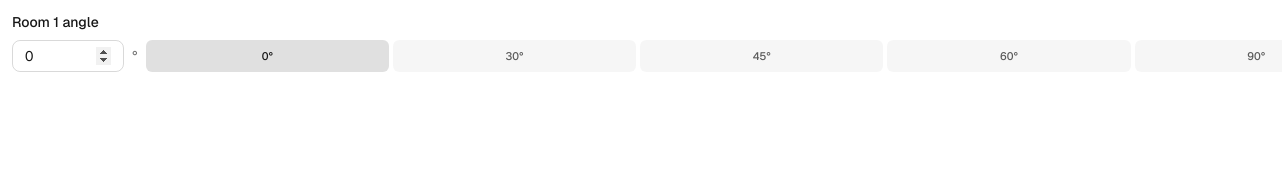
Test: AngleField presets › turns a section to a named angle in one press
Click the button named "Room 1 angle 45 degrees".
click(762, 56)  # box x1=640 y1=40 x2=884 y2=72
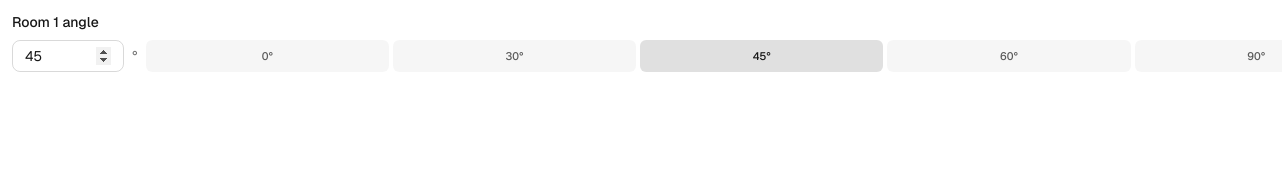
Now the number field holds "45", box x1=12 y1=40 x2=124 y2=72
